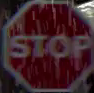Stop: (4, 3, 93, 92)
